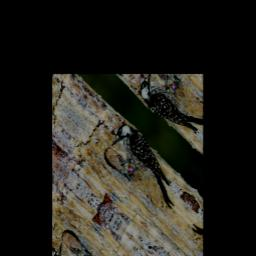Woodpecker: (104, 117, 188, 217)
